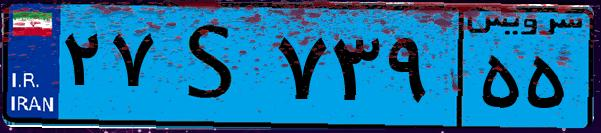2: (57, 26, 110, 100)
3: (330, 28, 385, 110)
5: (475, 38, 525, 113), (525, 38, 570, 115)
7: (270, 28, 330, 110), (110, 28, 158, 98)
9: (385, 28, 445, 110)
S: (158, 12, 270, 120)
